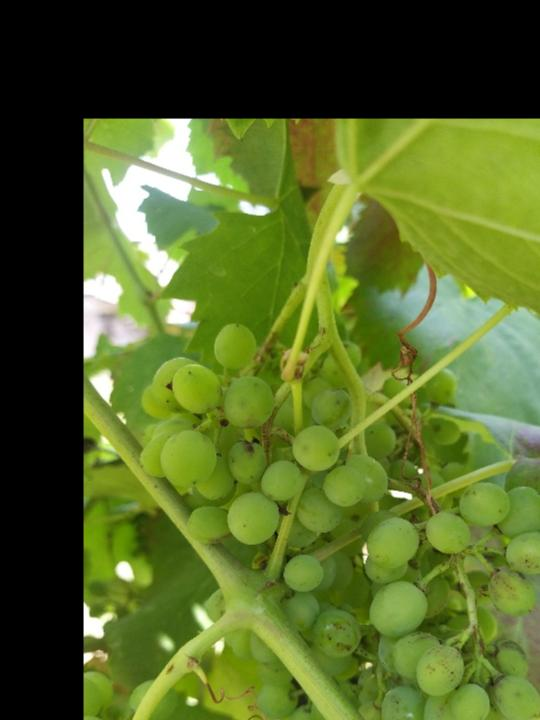grape: (131, 319, 540, 720)
